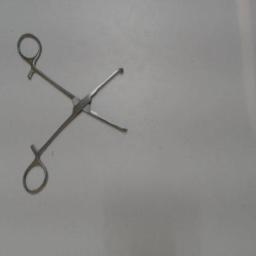Allis Tissue Forceps: (16, 30, 132, 196)
